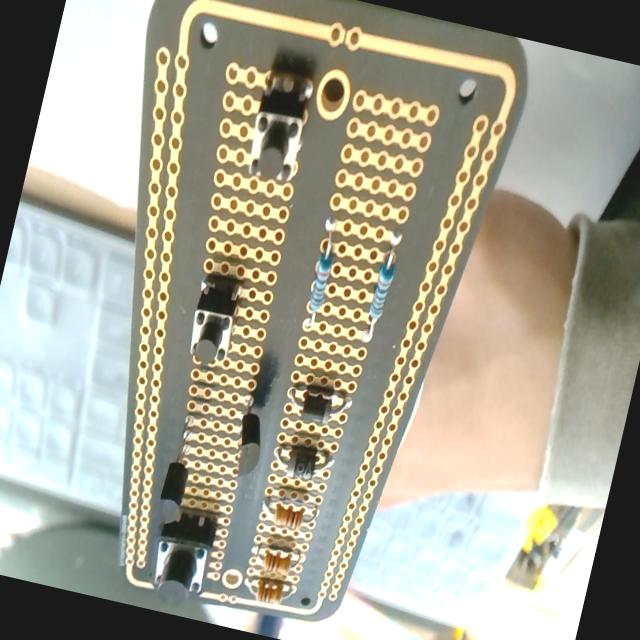diode: (274, 370, 358, 441), (260, 427, 342, 494)
resistor: (295, 210, 348, 346), (353, 230, 402, 354), (256, 485, 324, 539), (235, 570, 301, 616), (248, 532, 308, 580)
switch: (136, 504, 224, 620), (240, 67, 320, 190), (179, 272, 252, 383)
transistor: (149, 409, 207, 528), (220, 383, 275, 486)
